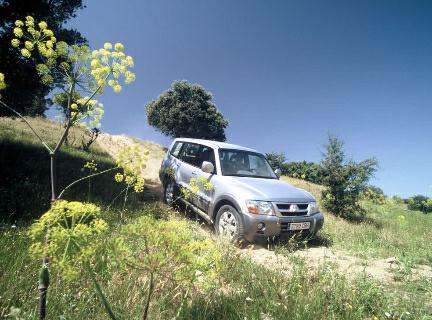三菱-帕杰罗: (154, 132, 334, 256)
